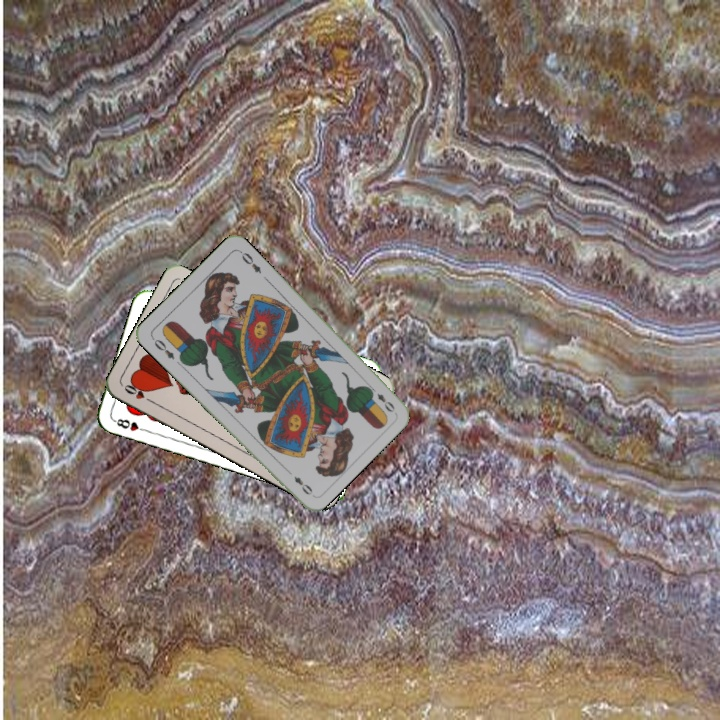EO: (365, 382, 398, 415), (148, 333, 177, 362)
H8: (110, 414, 150, 434)
HO: (120, 379, 157, 406)
